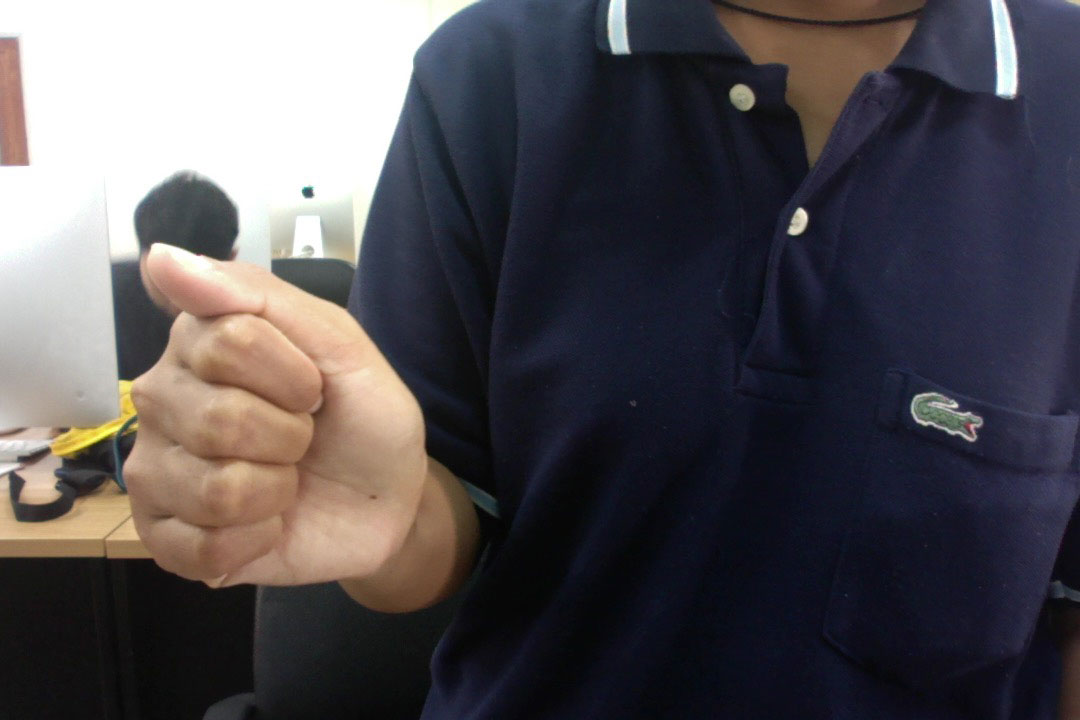or: (112, 228, 441, 602)
